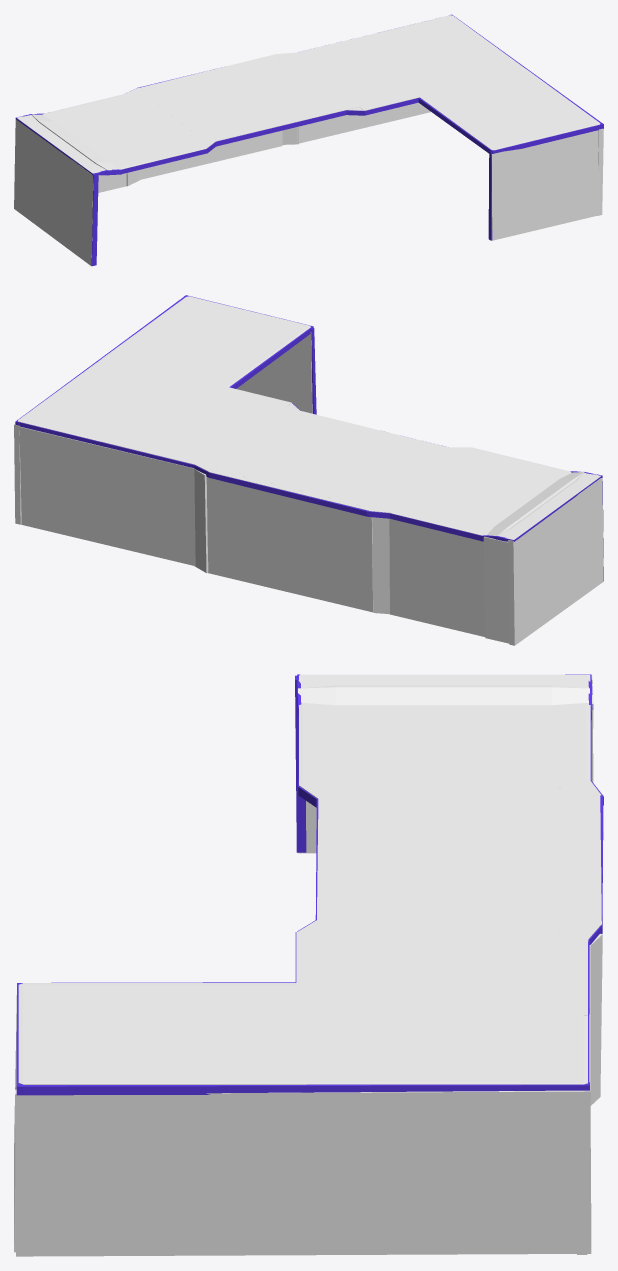
Rendered from table.glb.
The picture shows the model from 3 angles, top to bottom: view 1: azimuth 30°, elevation 25°; view 2: azimuth 150°, elevation 25°; view 3: azimuth 270°, elevation 25°; orthographic projection. The views are drawn at different scales.
Visible parts, largest first — view 1: Cube.004_3, Cube.044_44, Cube.012_11, Cube.045_45, Cube.011_10, Cube_0, Cube.005_5, Cube.010_9, Cube.039_39, Cube.038_38, Cube.014_13, Cube.013_12 (+9 smaller); view 2: Cube.038_38, Cube.039_39, Cube.005_5, Cube.012_11, Cube.045_45, Cube.040_40, Cube_0, Cube.011_10, Cube.004_3, Cube.010_9, Cube.044_44, Cube.046_46 (+11 smaller); view 3: Cube.043_43, Cube.005_5, Cube.012_11, Cube_0, Cube.011_10, Cube.004_3, Cube.010_9, Cube.013_12, Cube.020_20, Cube.014_13, Cube.042_42, Cube.003_2 (+2 smaller).
Boxes of the visible parts, x1,y1,x2,y2 form: Cube.004_3: (165,57,429,141); Cube.044_44: (491,130,599,240); Cube.012_11: (420,69,600,150); Cube.045_45: (14,119,95,266); Cube.011_10: (364,15,525,91); Cube_0: (42,94,206,169); Cube.005_5: (142,37,411,110); Cube.010_9: (296,32,454,110); Cube.039_39: (139,130,282,179); Cube.038_38: (297,102,430,143); Cube.014_13: (17,115,105,173); Cube.013_12: (31,114,119,174); Cube.038_38: (19,426,195,566); Cube.039_39: (206,477,373,612); Cube.005_5: (123,402,436,507); Cube.012_11: (101,296,310,387); Cube.045_45: (508,478,603,645); Cube.040_40: (389,518,484,636); Cube_0: (389,447,571,535); Cube.011_10: (18,358,204,446); Cube.004_3: (163,387,448,486); Cube.010_9: (100,377,291,464); Cube.044_44: (236,332,312,413); Cube.046_46: (483,536,509,643); Cube.043_43: (15,1087,591,1256); Cube.005_5: (384,792,589,997); Cube.012_11: (18,983,306,1084); Cube_0: (299,703,590,785); Cube.011_10: (300,1001,587,1084); Cube.004_3: (316,792,487,997); Cube.010_9: (296,931,587,1015); Cube.013_12: (298,685,589,705); Cube.020_20: (24,1082,589,1095); Cube.014_13: (298,674,590,688); Cube.042_42: (590,933,602,1105); Cube.003_2: (341,778,589,792).
Bounding box in the file's own units: 3.35 × 0.6842 × 2.05.
